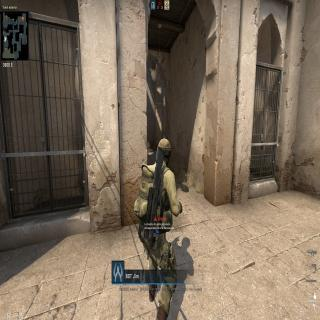CT-Head: (156, 135, 173, 169)
